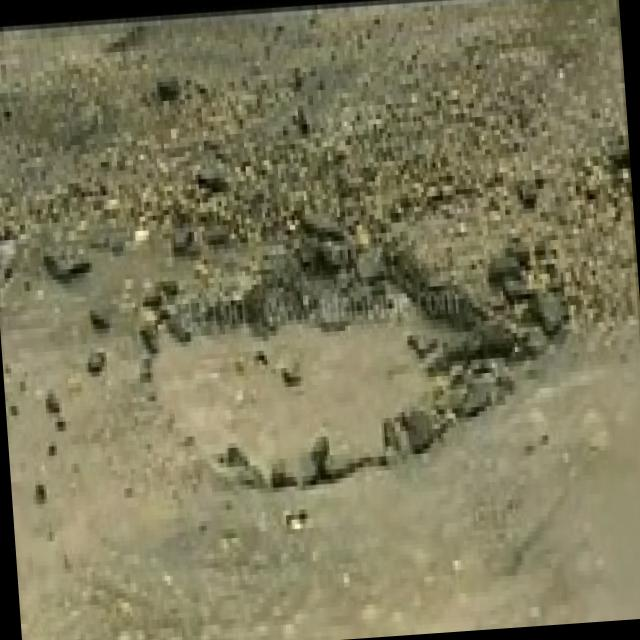Potholes: (93, 197, 607, 530)
